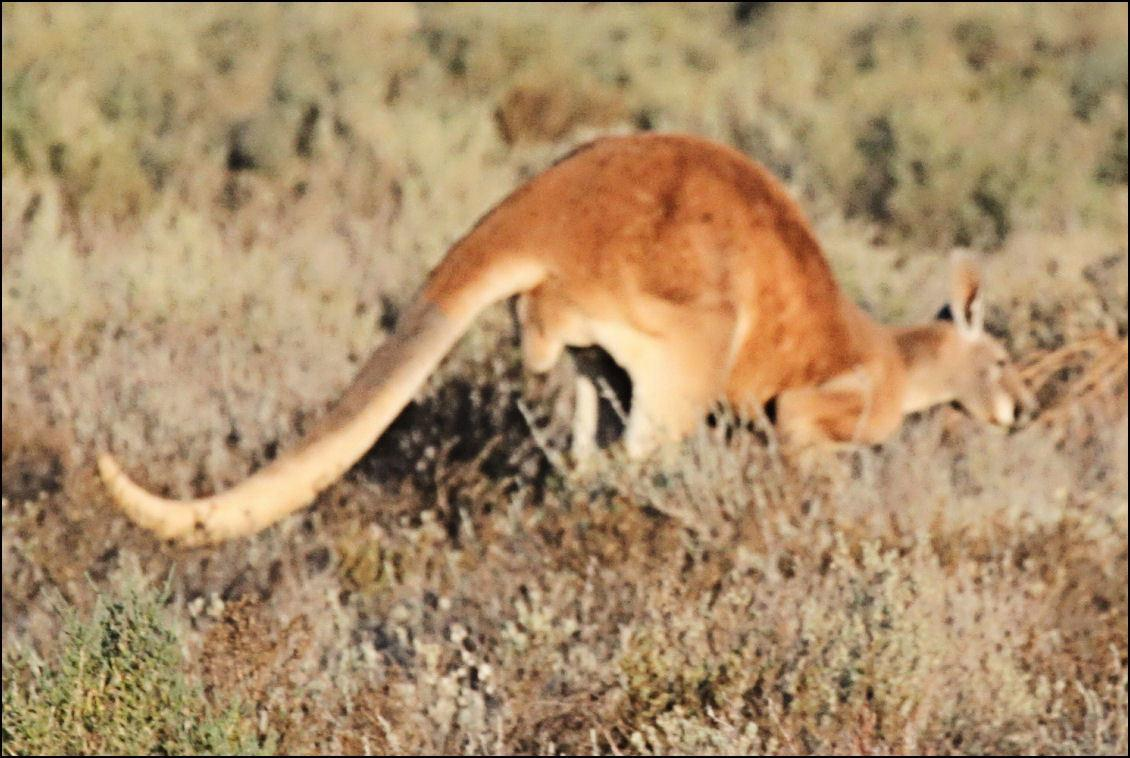Red kangaroo: (94, 130, 1041, 554)
